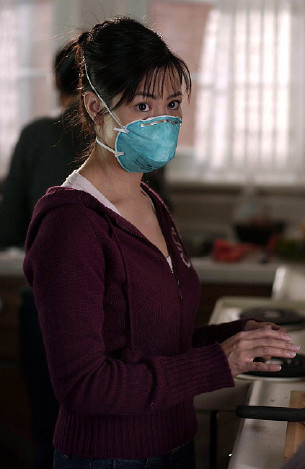face_mask: (105, 60, 183, 168)
